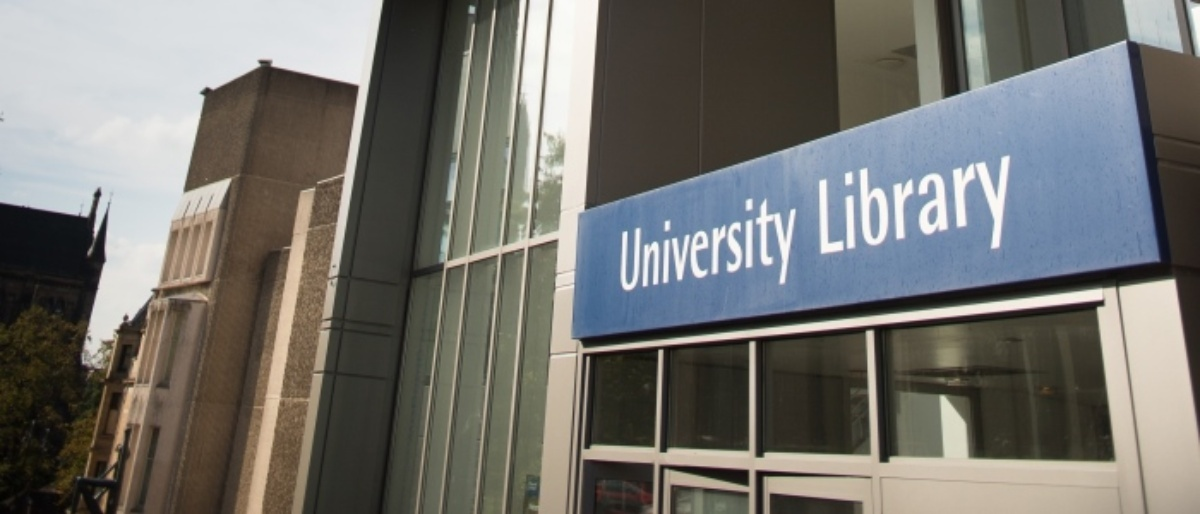text: (817, 131, 832, 266), (833, 131, 848, 266), (849, 131, 864, 266), (865, 131, 880, 266), (881, 131, 896, 266), (897, 131, 912, 266), (913, 131, 928, 266), (929, 131, 944, 266), (945, 131, 960, 266), (961, 131, 976, 266), (977, 131, 992, 266), (993, 131, 1008, 266), (625, 184, 640, 302), (641, 184, 656, 302), (657, 184, 672, 302), (673, 184, 688, 302), (689, 184, 704, 302), (705, 184, 720, 302), (721, 184, 736, 302), (737, 184, 752, 302), (753, 184, 768, 302), (769, 184, 784, 302), (785, 184, 799, 302), (1009, 131, 1014, 266), (621, 184, 624, 302)
